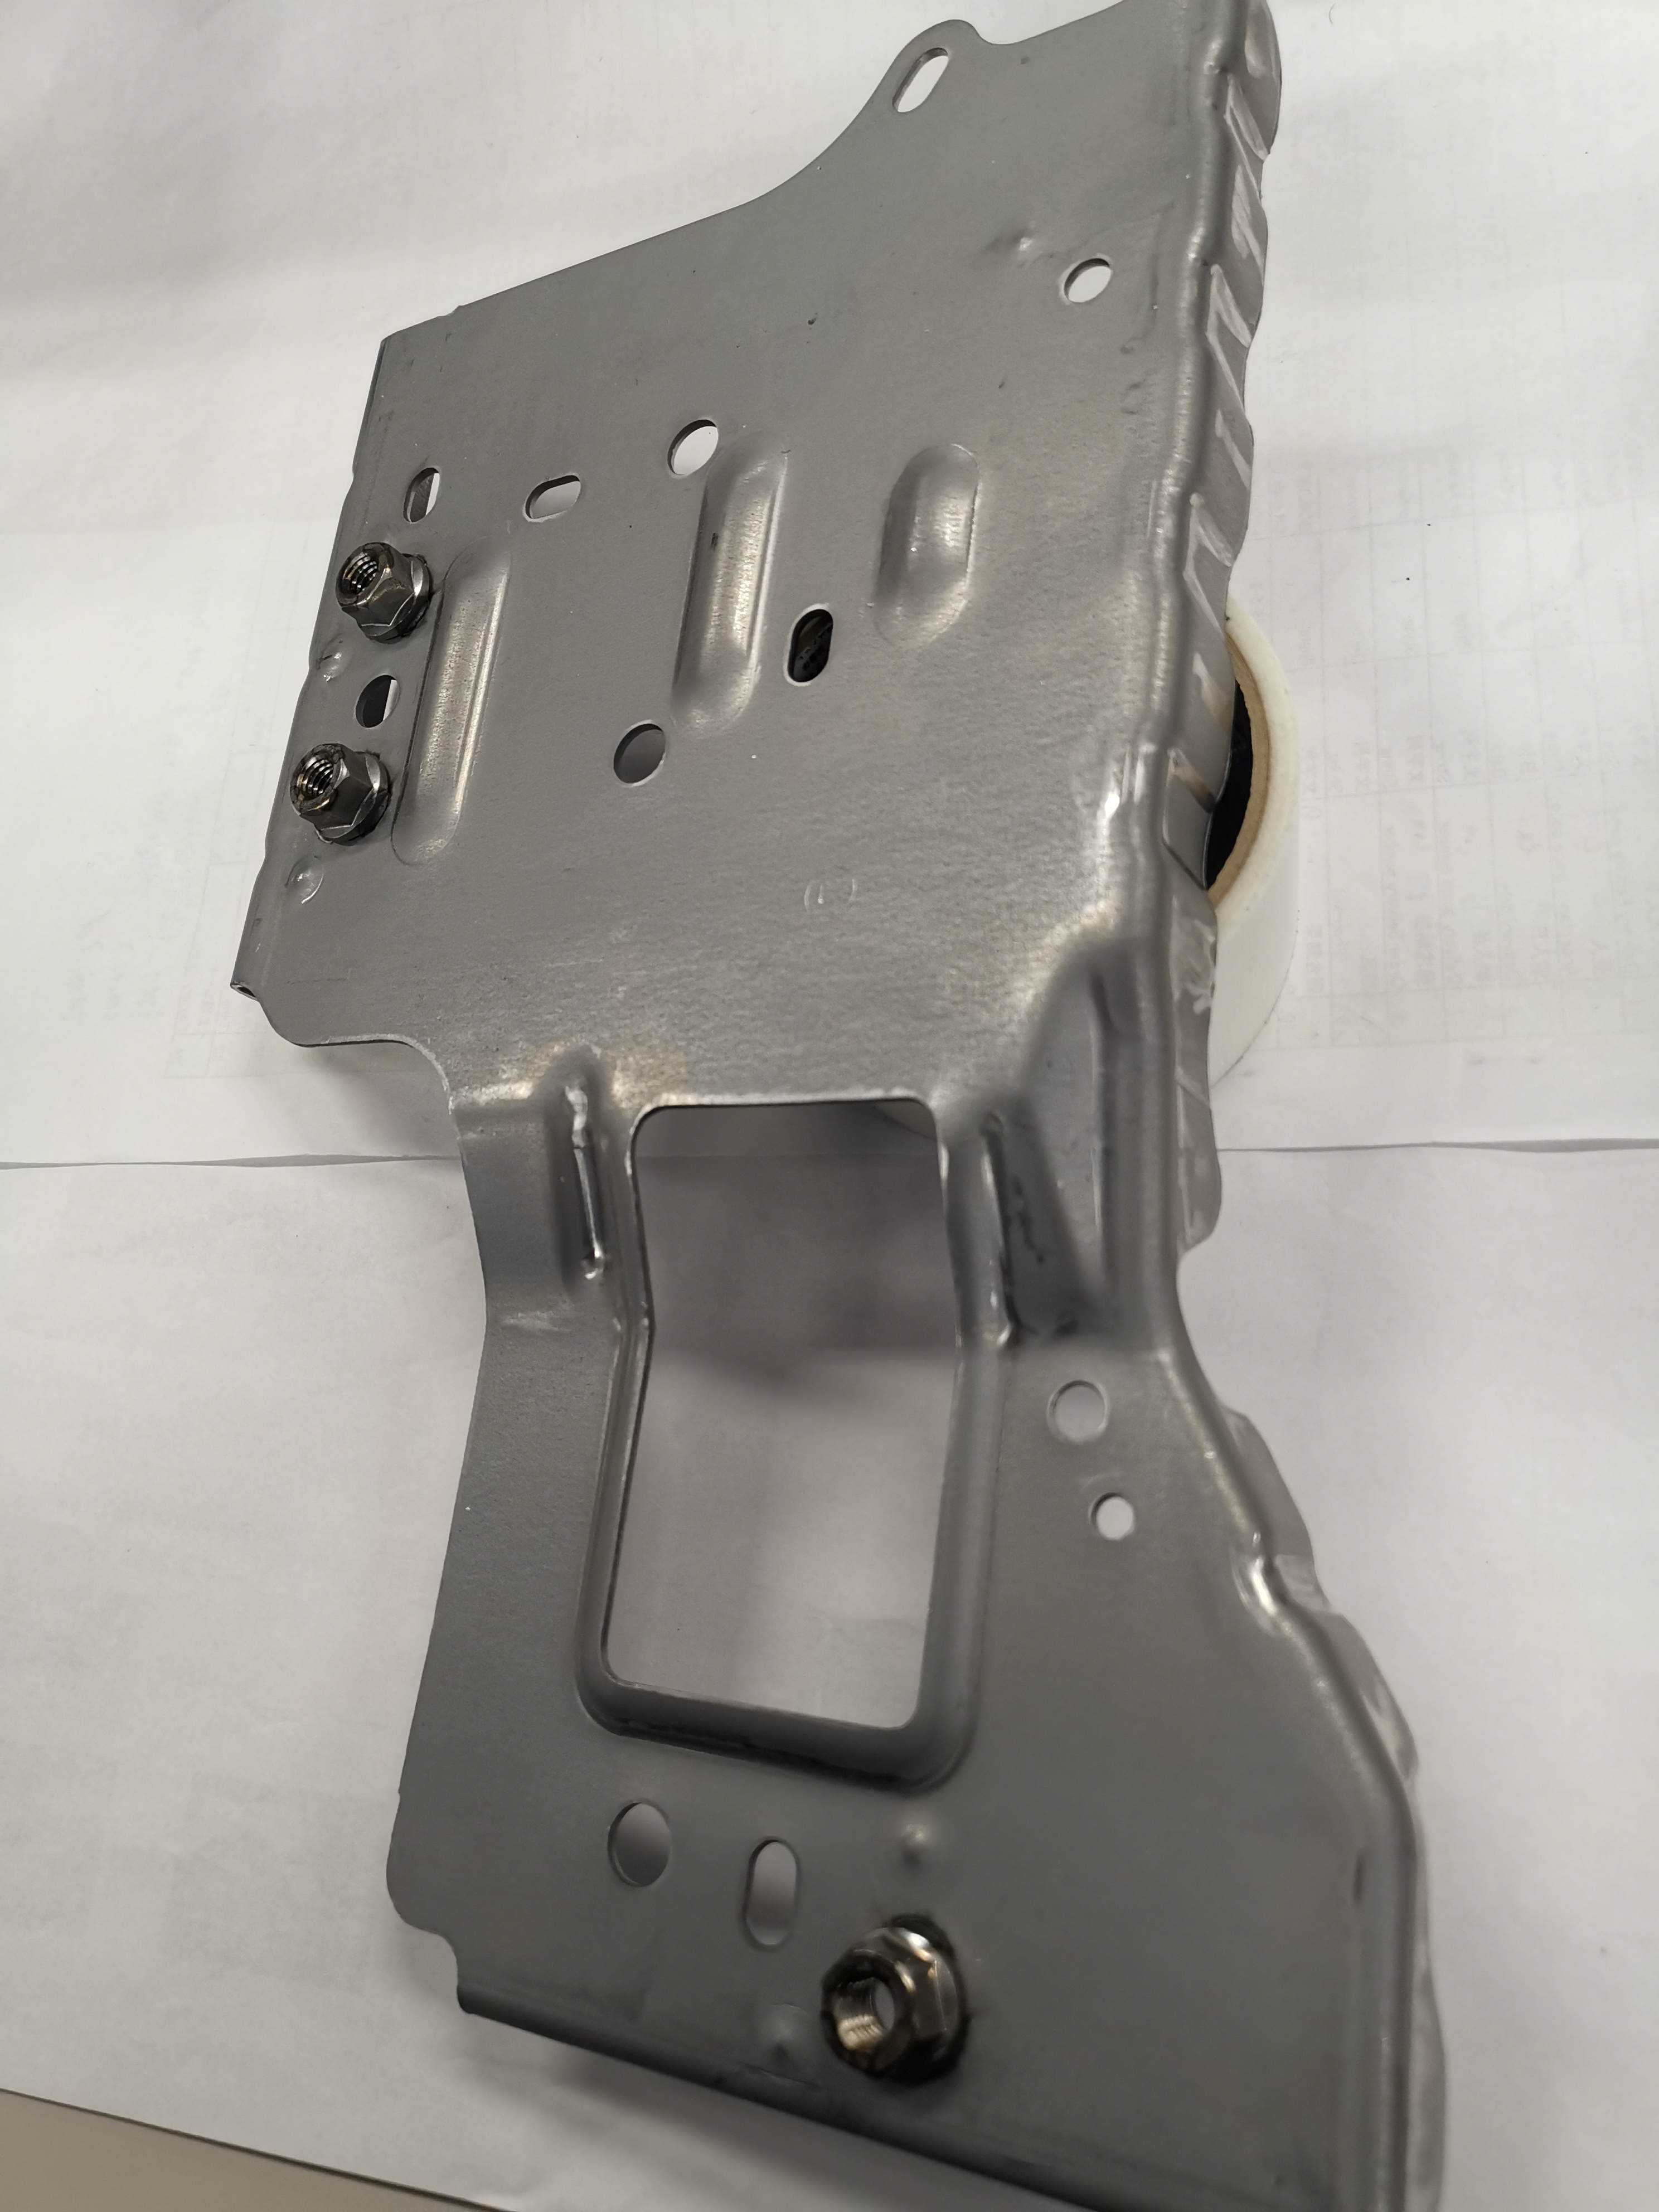dog: (812, 1914, 985, 2083), (282, 738, 403, 852), (326, 538, 448, 648)
